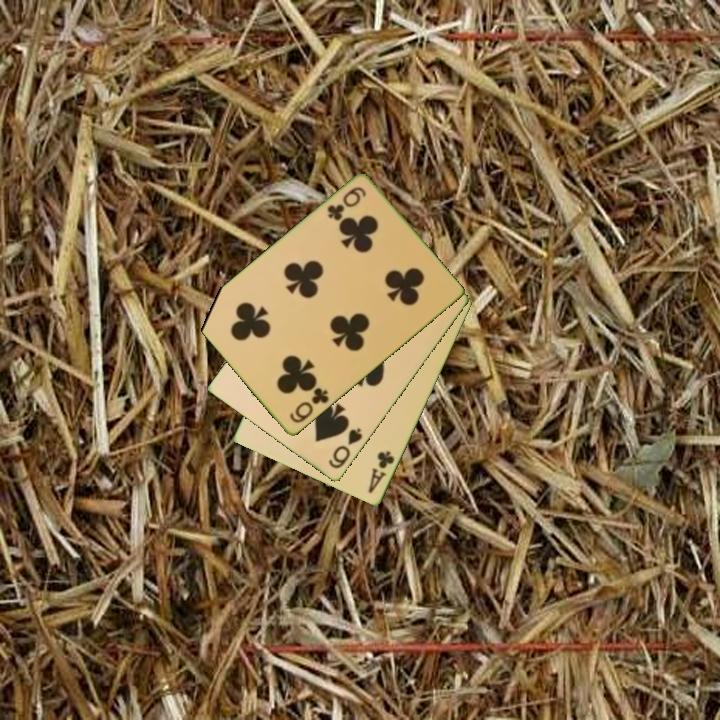6c: (286, 384, 332, 427), (323, 183, 369, 224)
6s: (325, 425, 365, 472)
Ac: (365, 448, 397, 496)
